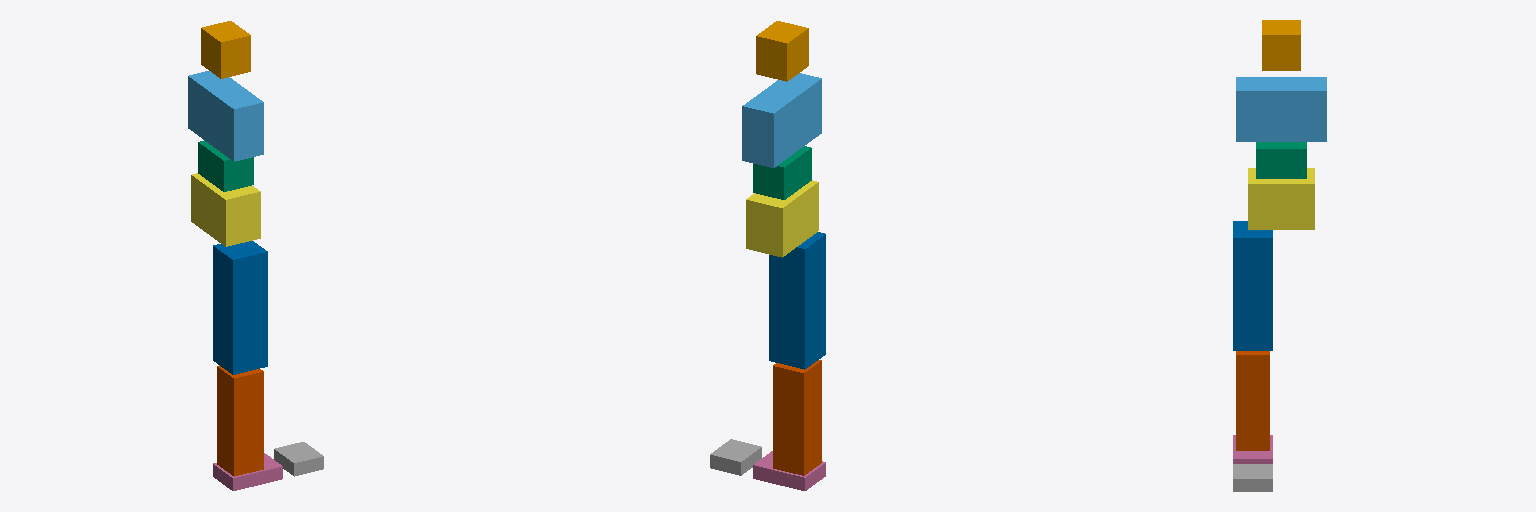
The robot description file, URDF, robot "jumper_inverted":
<?xml version="0.0" ?>
<robot name="jumper_inverted">

	<link name="head">
		<inertial>
			<!-- mass, inertia will be overwritten-->
			<mass value="1"/>
			<inertia ixx="1" ixy="0" ixz="0" iyy="1" iyz="0" izz="1"/>
		</inertial>
		<visual>
			<geometry>
				<box size="0.12 0.14 0.14"/>
			</geometry>
		</visual>
	</link>

	<link name="torso">
		<inertial>
			<!-- mass, inertia will be overwritten-->
			<mass value="1"/>
			<inertia ixx="1" ixy="0" ixz="0" iyy="1" iyz="0" izz="1"/>
		</inertial>
		<visual>
			<geometry>
				<box size="0.12 0.32 0.20"/>
			</geometry>
		</visual>
	</link>

	<link name="lwaist">
		<inertial>
			<!-- mass, inertia will be overwritten-->
			<mass value="1"/>
			<inertia ixx="1" ixy="0" ixz="0" iyy="1" iyz="0" izz="1"/>
		</inertial>
		<visual>
			<geometry>
				<box size="0.12 0.18 0.12"/>
			</geometry>
		</visual>
	</link>

	<link name="pelvis">
		<inertial>
			<origin rpy="0.00000 -0.00000 0.00000" xyz="0.00000 0.10000 0.10000"/>
			<!-- mass, inertia will be overwritten-->
			<mass value="1"/>
			<inertia ixx="1" ixy="0" ixz="0" iyy="1" iyz="0" izz="1"/>
		</inertial>
		<visual>
			<origin rpy="0.00000 -0.00000 0.00000" xyz="0.00000 0.10000 0.10000"/>
			<geometry>
				<box size="0.14 0.24 0.18"/>
			</geometry>
		</visual>
	</link>

	<link name="right_thigh">
		<inertial>
			<origin rpy="0.0 -0.00000 0.00000" xyz="0.00000 0.0000 0.24000"/>
			<!-- mass, inertia will be overwritten-->
			<mass value="1"/>
			<inertia ixx="1" ixy="0" ixz="0" iyy="1" iyz="0" izz="1"/>
		</inertial>
		<visual>
			<origin rpy="0.0 -0.00000 0.00000" xyz="0.00000 0.0000 0.24000"/>
			<geometry>
				<box size="0.14 0.14 0.44"/>
			</geometry>
		</visual>
	</link>

	<link name="right_shin">
		<inertial>
			<origin rpy="0.0 0.00000 0.0" xyz="0.00000 0.00000 0.2000"/>
			<!-- mass, inertia will be overwritten-->
			<mass value="1"/>
			<inertia ixx="1" ixy="0" ixz="0" iyy="1" iyz="0" izz="1"/>
		</inertial>
		<visual>
			<origin rpy="0.0 0.00000 0.0" xyz="0.00000 0.00000 0.2000"/>
			<geometry>
				<box size="0.12 0.12 0.4"/>
			</geometry>
		</visual>
	</link>

	<link name="right_foot">
		<inertial>
			<origin rpy="0.00000 -0.00000 0.00000" xyz="-0.1700 0.000 0.00000"/>
			<!-- mass, inertia will be overwritten-->
			<mass value="1"/>
			<inertia ixx="1" ixy="0" ixz="0" iyy="1" iyz="0" izz="1"/>
		</inertial>
		<visual>
			<origin rpy="0.00000 -0.00000 0.00000" xyz="-0.1700 0.000 0.00000"/>
			<geometry>
				<box size="0.20 0.14 0.05"/>
			</geometry>
		</visual>
	</link>

	<link name="right_toe">
		<inertial>
			<!-- mass, inertia will be overwritten-->
			<mass value="1"/>
			<inertia ixx="1" ixy="0" ixz="0" iyy="1" iyz="0" izz="1"/>
		</inertial>
		<visual>
			<geometry>
				<box size="0.12 0.14 0.05"/>
			</geometry>
		</visual>
	</link>

	<joint name="right_toe" type="continuous">
		<parent link="right_toe"/>
		<child link="right_foot"/>
		<dynamics damping="0.2" friction="0.0001"/>
		<origin rpy="0.00000 0.00000 0.00000" xyz="-0.035000 0.00000 0.00000"/>
		<axis xyz="0.00000 1.00000 0.00000"/>
<!--		<limit lower="-0.1" upper="1.4971975512"/>-->
	</joint>

	<joint name="right_ankle" type="continuous">
		<parent link="right_foot"/>
		<child link="right_shin"/>
		<dynamics damping="0.2" friction="0.0001"/>
		<origin rpy="0.00000 -0.00000 0.00000" xyz="-0.2000 0.00000 0.00000"/>
		<axis xyz="0.00000 -1.00000 0.00000"/>
<!--		<limit lower="-1.0971975512" upper="1.0971975512"/>-->
	</joint>

	<joint name="right_knee" type="continuous">
		<parent link="right_shin"/>
		<child link="right_thigh"/>
		<dynamics damping="0.2" friction="0.0001"/>
		<origin rpy="0.00000 -0.00000 0.00000" xyz="0.00000 0.0000 0.400"/>
		<axis xyz="0.00000 -1.00000 0.00000"/>
<!--		<limit lower="-0.1" upper="2.8"/>-->
	</joint>

	<joint name="right_hip_y" type="continuous">
		<parent link="right_thigh"/>
		<child link="pelvis"/>
		<dynamics damping="0.2" friction="0.0001"/>
		<origin rpy="0.00000 -0.00000 0.00000" xyz="0.00000 0.0000 0.480"/>
		<axis xyz="0.00000 1.00000 0.00000"/>
<!--		<limit lower="-1.57" upper="2.2"/>-->
	</joint>

    <joint name="abdomen_2" type="fixed">
		<parent link="pelvis"/>
		<child link="lwaist"/>
		<origin rpy="0.00000 -0.0000 0.00000" xyz="0.0000 0.10000 0.26500"/>
		<axis xyz="0.00000 0.00000 0.00000"/>
	</joint>

	<joint name="abdomen" type="fixed">
		<parent link="lwaist"/>
		<child link="torso"/>
		<origin rpy="0.00000 -0.00000 0.00000" xyz="0.00000 0.00000 0.18500"/>
		<axis xyz="0.00000 0.00000 0.00000"/>
	</joint>

	<joint name="jointfix_head" type="fixed">
		<parent link="torso"/>
		<child link="head"/>
		<origin rpy="0.00000 -0.00000 0.00000" xyz="0.00000 0.00000 0.25"/>
		<axis xyz="0.00000 0.00000 0.00000"/>
	</joint>
</robot>

--- Render facts (derived) ---
3 views of the same robot in one strip: view 1: azimuth 30°, elevation 25°; view 2: azimuth 150°, elevation 25°; view 3: azimuth 270°, elevation 25° (orthographic).
Model jumper_inverted with 8 links and 7 joints (4 continuous, 3 fixed), rooted at right_toe, posed every joint at zero.
Links seen in each view (by area): view 1: right_thigh, torso, right_shin, pelvis, head, lwaist, right_toe, right_foot; view 2: right_thigh, torso, right_shin, pelvis, head, lwaist, right_toe, right_foot; view 3: torso, right_thigh, pelvis, right_shin, head, lwaist, right_toe, right_foot.
Boxes of the visible links, bbox=[...] form: right_thigh: bbox=[213, 241, 267, 374]; torso: bbox=[188, 71, 263, 161]; right_shin: bbox=[217, 365, 263, 476]; pelvis: bbox=[191, 173, 260, 246]; head: bbox=[201, 21, 250, 78]; lwaist: bbox=[198, 140, 253, 191]; right_toe: bbox=[274, 442, 323, 476]; right_foot: bbox=[213, 453, 282, 490]; right_thigh: bbox=[769, 232, 825, 369]; torso: bbox=[742, 73, 821, 167]; right_shin: bbox=[773, 360, 821, 475]; pelvis: bbox=[746, 180, 818, 257]; head: bbox=[756, 21, 808, 81]; lwaist: bbox=[753, 146, 811, 199]; right_toe: bbox=[710, 439, 761, 475]; right_foot: bbox=[753, 451, 825, 490]; torso: bbox=[1236, 77, 1326, 141]; right_thigh: bbox=[1233, 221, 1272, 350]; pelvis: bbox=[1248, 168, 1314, 229]; right_shin: bbox=[1236, 351, 1269, 450]; head: bbox=[1262, 20, 1300, 70]; lwaist: bbox=[1256, 142, 1306, 178]; right_toe: bbox=[1233, 464, 1272, 491]; right_foot: bbox=[1233, 435, 1272, 463].
Size in the robot's own frame: 0.365 by 0.33 by 1.68 metres.
Geometry: primitives only (box / cylinder / sphere), no mesh files.